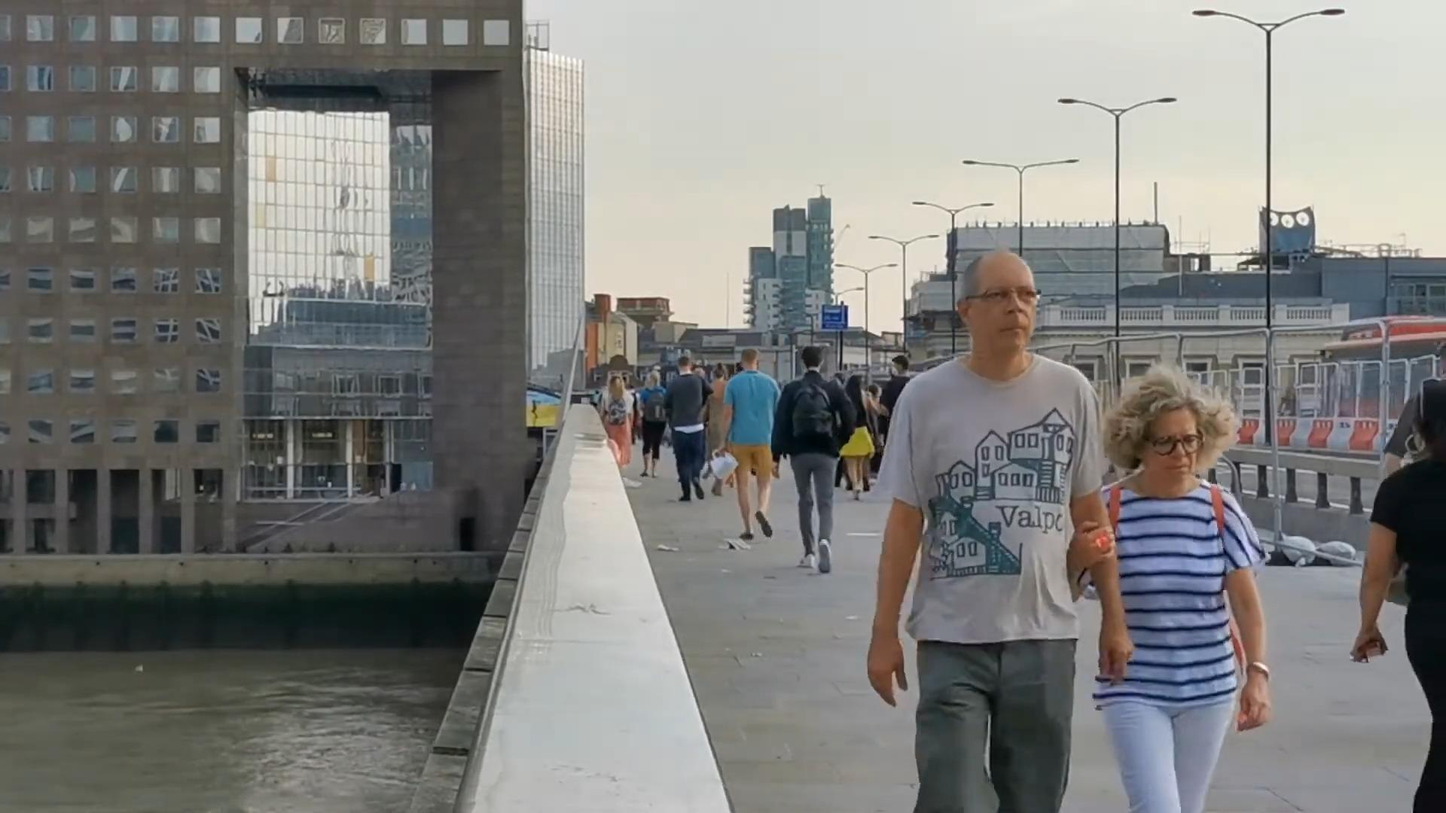no-helmet: (1101, 366, 1242, 483), (957, 248, 1043, 355), (802, 346, 825, 370), (740, 348, 761, 369), (845, 375, 865, 396), (608, 374, 624, 398), (891, 355, 908, 377), (676, 356, 693, 373), (711, 362, 728, 379)
